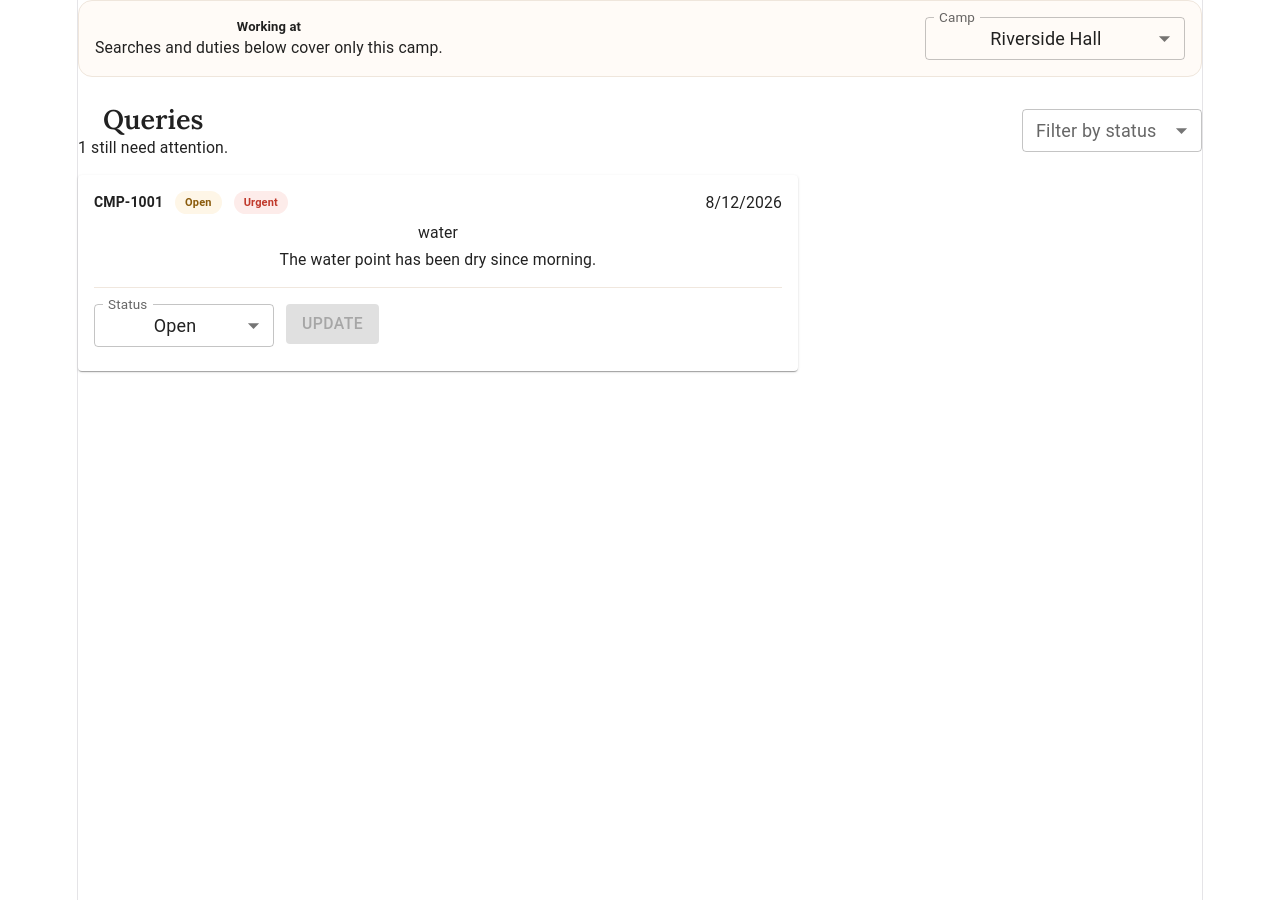
it: ComplaintsQueuePage › asks what was done before letting one be closed
Click the dropdown named "status" at [175, 325], box [154, 315, 196, 336]
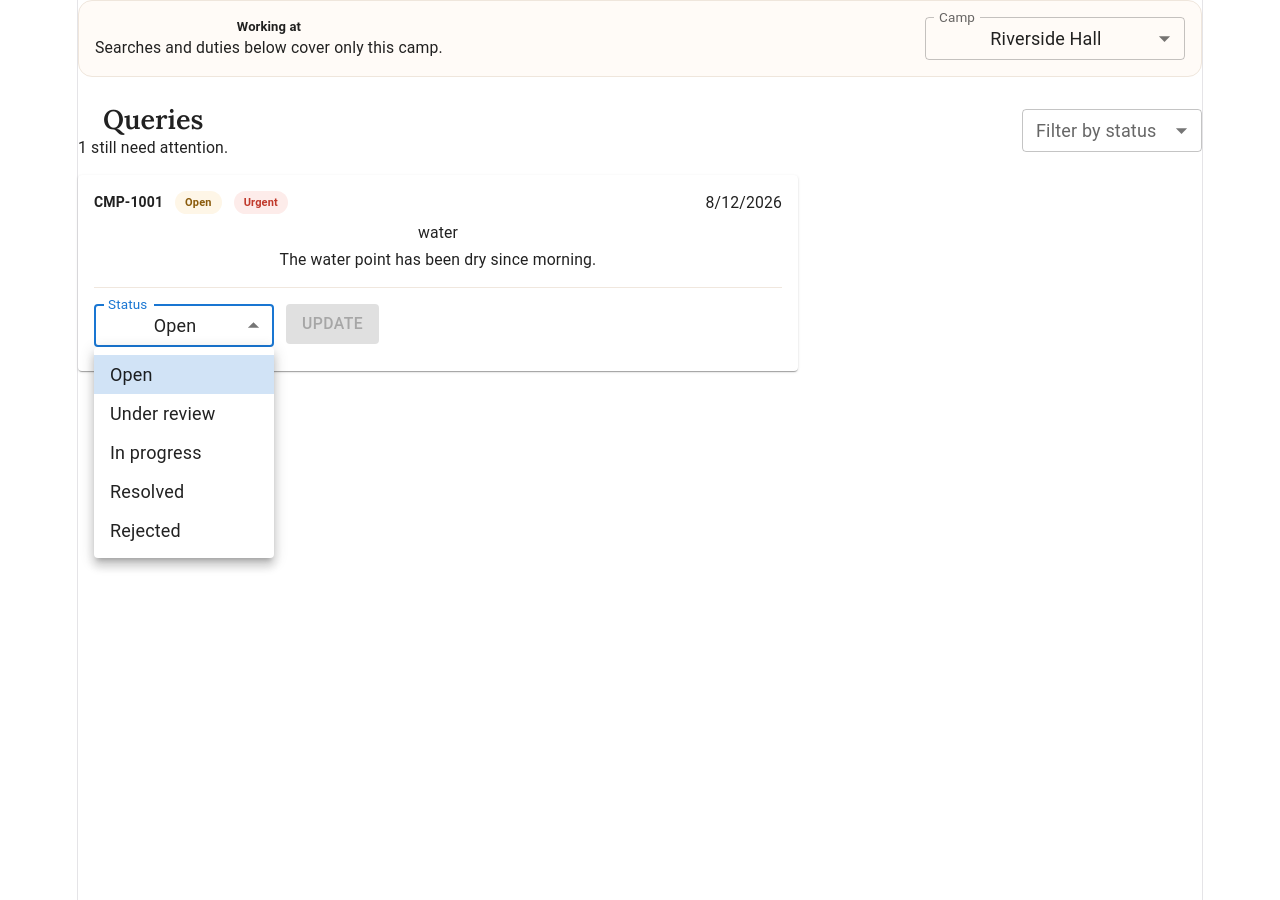
Click the option "Resolved" at [147, 492], box [110, 481, 184, 502]
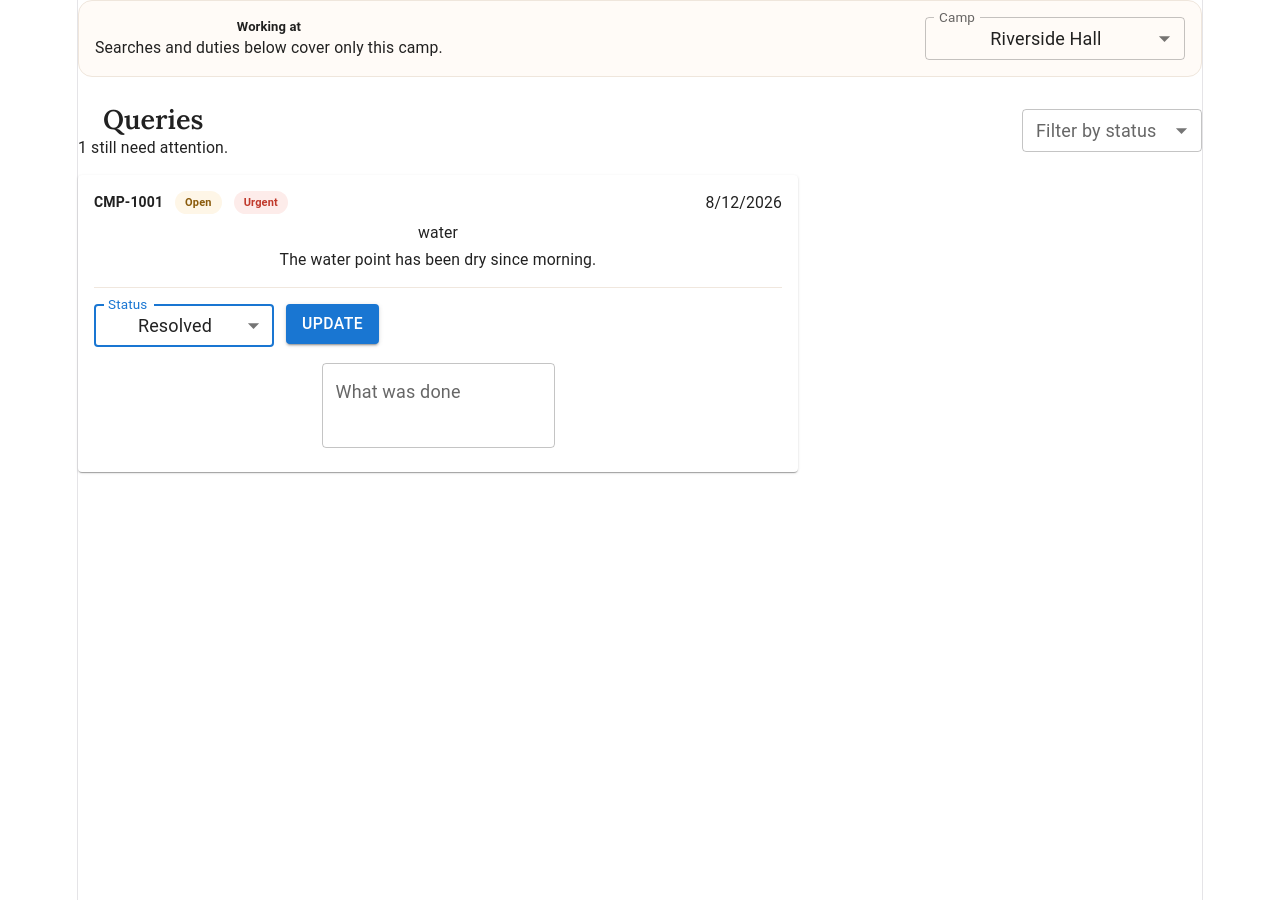
Check: the text box labelled "What was done" is shown, box [336, 380, 540, 432]
